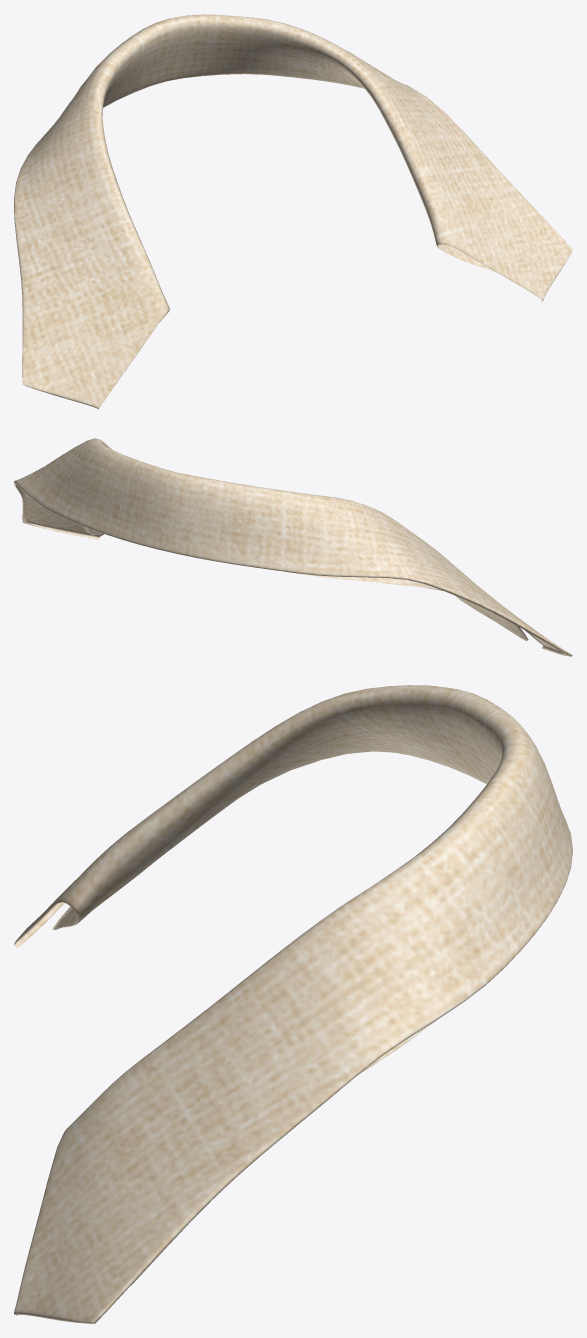
File: Peak_Collor.glb
3 views of the same model, one above another, from view 1: azimuth 30°, elevation 25°; view 2: azimuth 150°, elevation 25°; view 3: azimuth 270°, elevation 25° (orthographic). The views are drawn at different scales.
Visible parts, largest first — view 1: peak_collar1; view 2: peak_collar1; view 3: peak_collar1.
Part boxes in pixels (x1=…): peak_collar1: x1=14, y1=14, x2=572, y2=409; peak_collar1: x1=14, y1=438, x2=572, y2=656; peak_collar1: x1=14, y1=685, x2=572, y2=1323.
Size of the model in its own units: 0.0398 by 0.0158 by 0.0206.
1 material, 1 textured.
